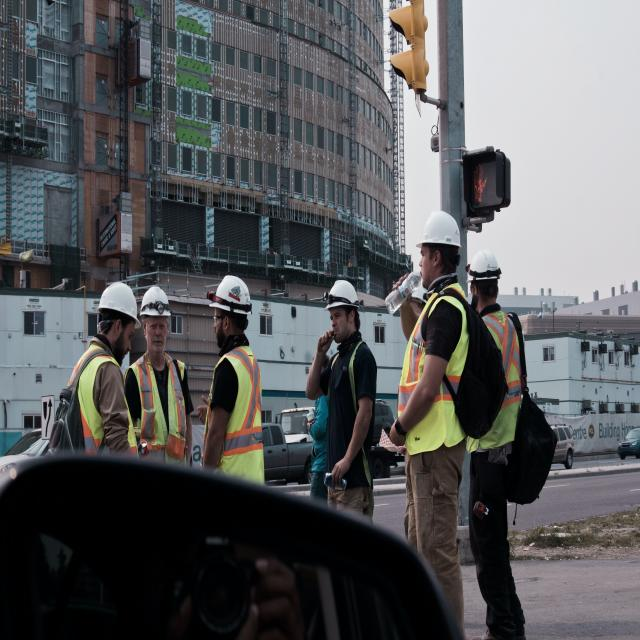helmet: (408, 204, 478, 270), (202, 264, 254, 328), (87, 278, 146, 331), (134, 278, 180, 329), (466, 243, 504, 297), (320, 273, 368, 313)
vest: (388, 284, 473, 452), (471, 298, 539, 486), (56, 344, 144, 462), (204, 342, 272, 476), (122, 344, 196, 455)
